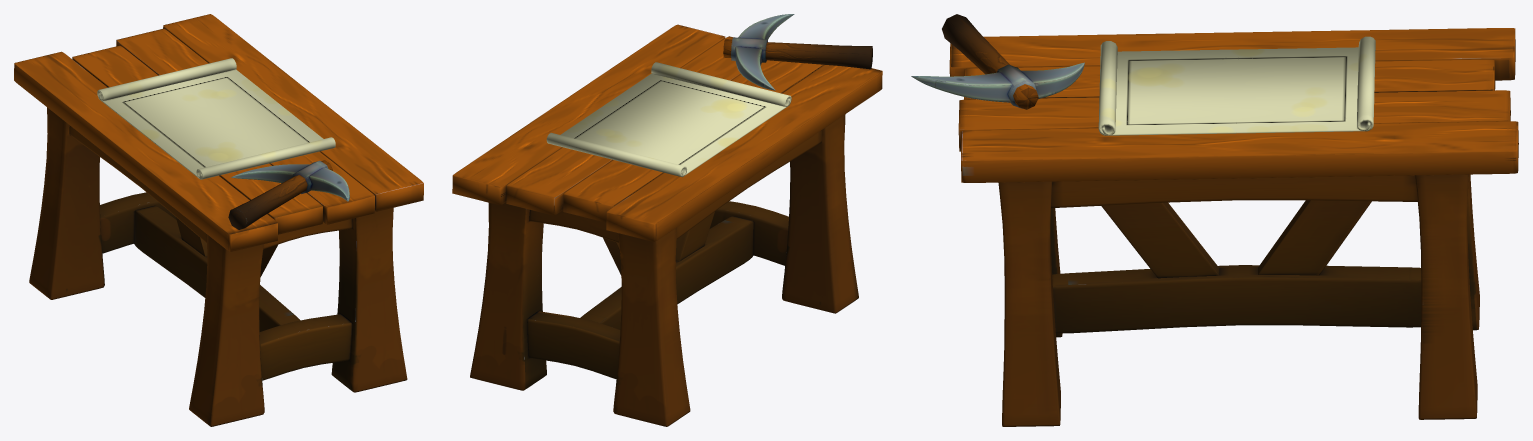
Rendered from Mesa.fbx.
The picture shows the model from 3 angles, left to right: view 1: azimuth 30°, elevation 25°; view 2: azimuth 150°, elevation 25°; view 3: azimuth 270°, elevation 25°; orthographic projection. The views are drawn at different scales.
Parts seen in each view (by area): view 1: Mesa; view 2: Mesa; view 3: Mesa.
Boxes of the visible parts, x1,y1,x2,y2 form: Mesa: (14,14,423,426); Mesa: (452,14,882,426); Mesa: (911,14,1518,426).
Size of the model in its own units: 116 by 127 by 234.
